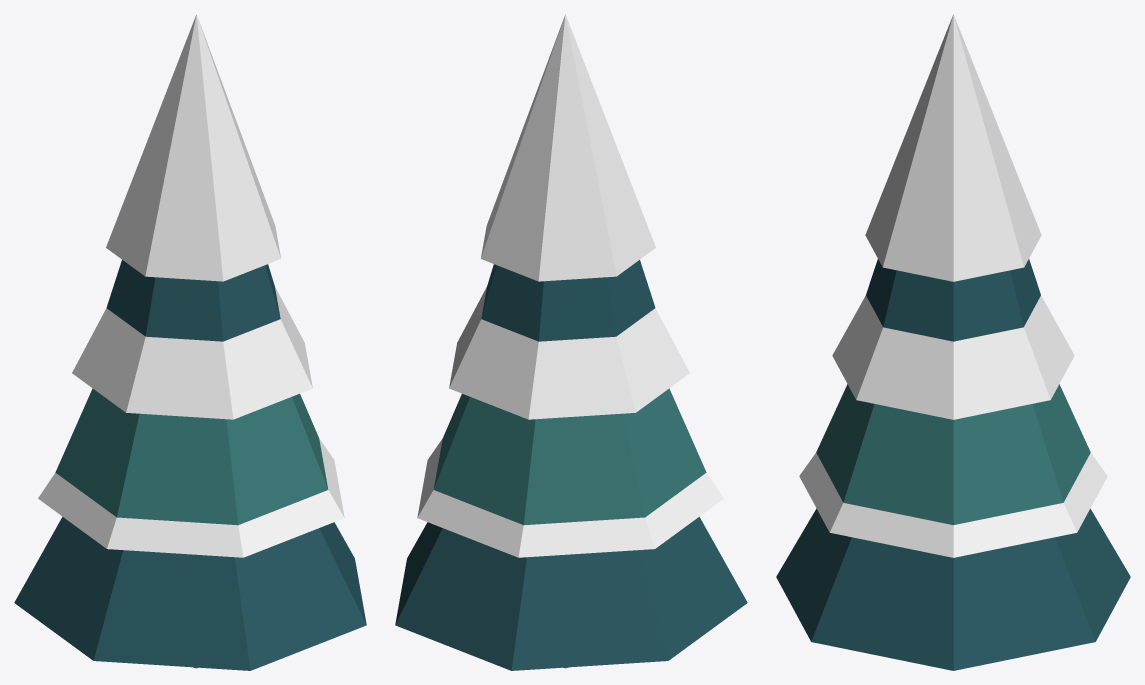
File: tree.glb
3 views of the same model, side by side, from view 1: azimuth 30°, elevation 25°; view 2: azimuth 150°, elevation 25°; view 3: azimuth 270°, elevation 25° (orthographic).
Parts seen in each view (by area): view 1: Prop_tree; view 2: Prop_tree; view 3: Prop_tree.
Boxes of the visible parts, x1,y1,x2,y2 form: Prop_tree: (14,14,366,670); Prop_tree: (395,14,747,670); Prop_tree: (776,14,1130,670).
Bounding box in the file's own units: 1.54 × 3.12 × 1.58.
